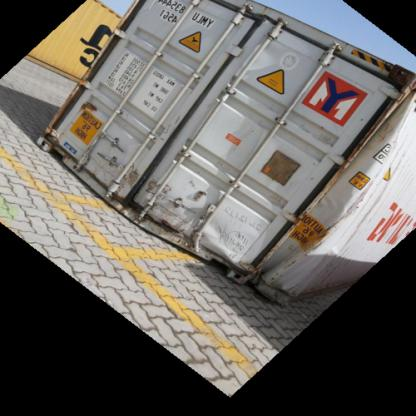Damage: (263, 113, 379, 283), (115, 158, 193, 233), (72, 98, 109, 119)
